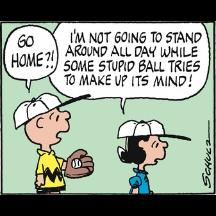charlie: (13, 92, 95, 196)
